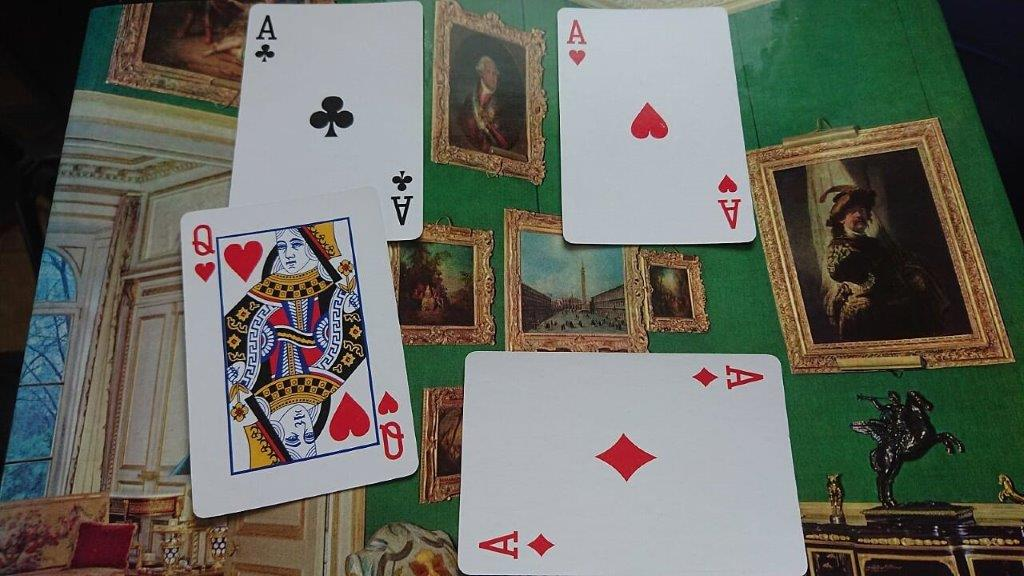AC: (251, 11, 278, 66)
AH: (563, 14, 589, 68)
QH: (187, 220, 220, 286)
